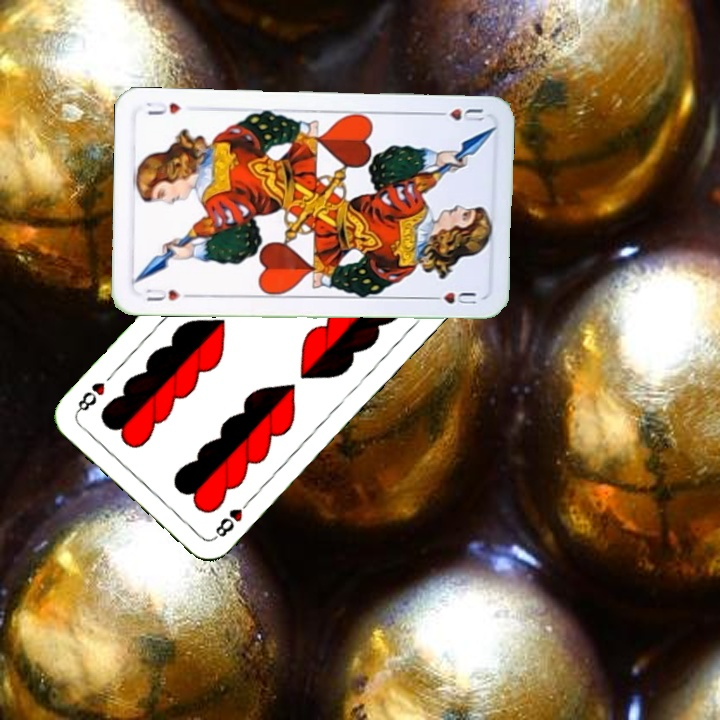H8: (209, 494, 254, 542)
HU: (429, 104, 486, 124), (142, 284, 195, 304)
